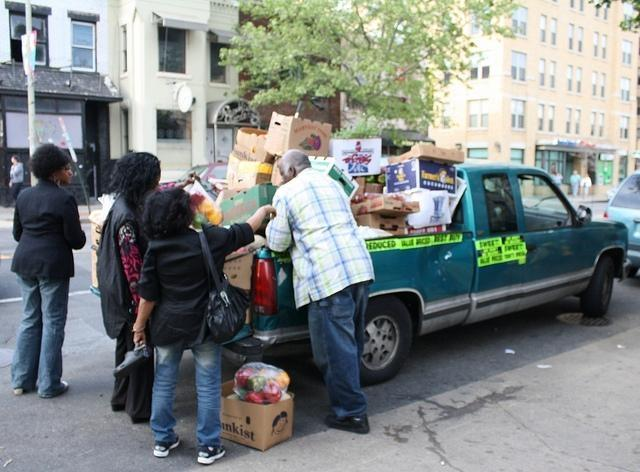car: (602, 170, 640, 278)
truck: (233, 158, 628, 386)
